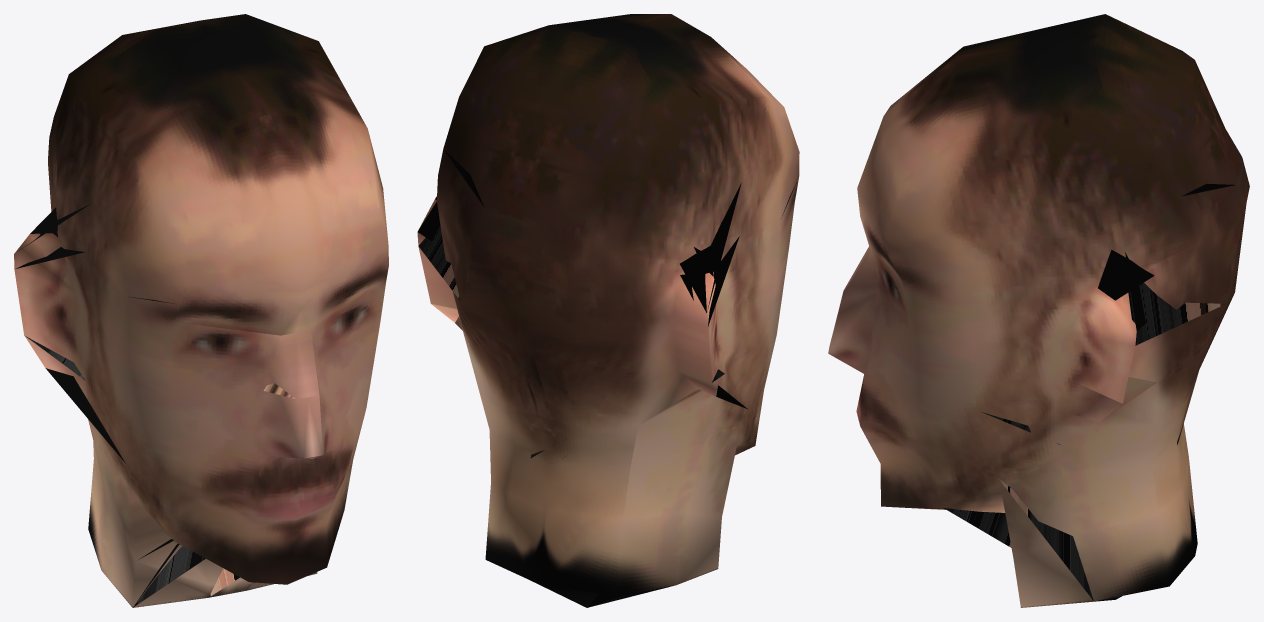
File: KevinHead.fbx
3 renders of one model, left to right at view 1: azimuth 30°, elevation 25°; view 2: azimuth 150°, elevation 25°; view 3: azimuth 270°, elevation 25°, orthographic.
Visible parts, largest first — view 1: Head; view 2: Head; view 3: Head.
Part boxes in pixels (x1,y1,x2,y2): Head: (14,14,388,607); Head: (417,14,799,607); Head: (828,14,1249,607).
Size of the model in its own units: 16.81 by 29.76 by 20.05.
